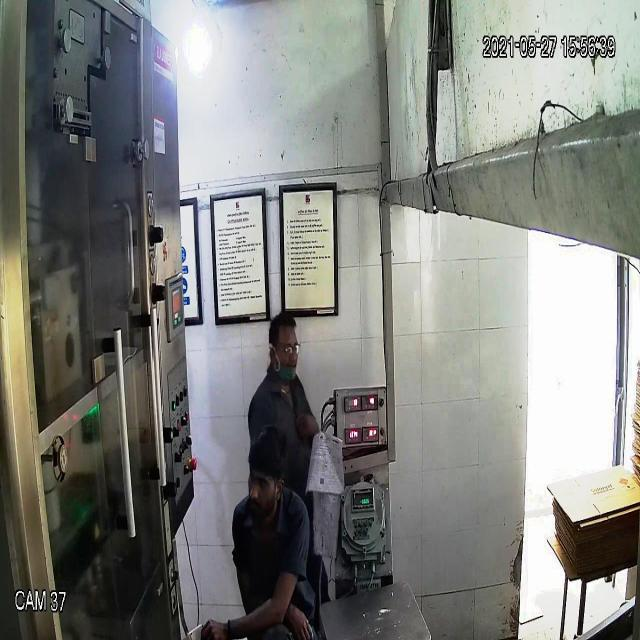glasses: (272, 343, 303, 364)
no-glass: (244, 465, 281, 499)
